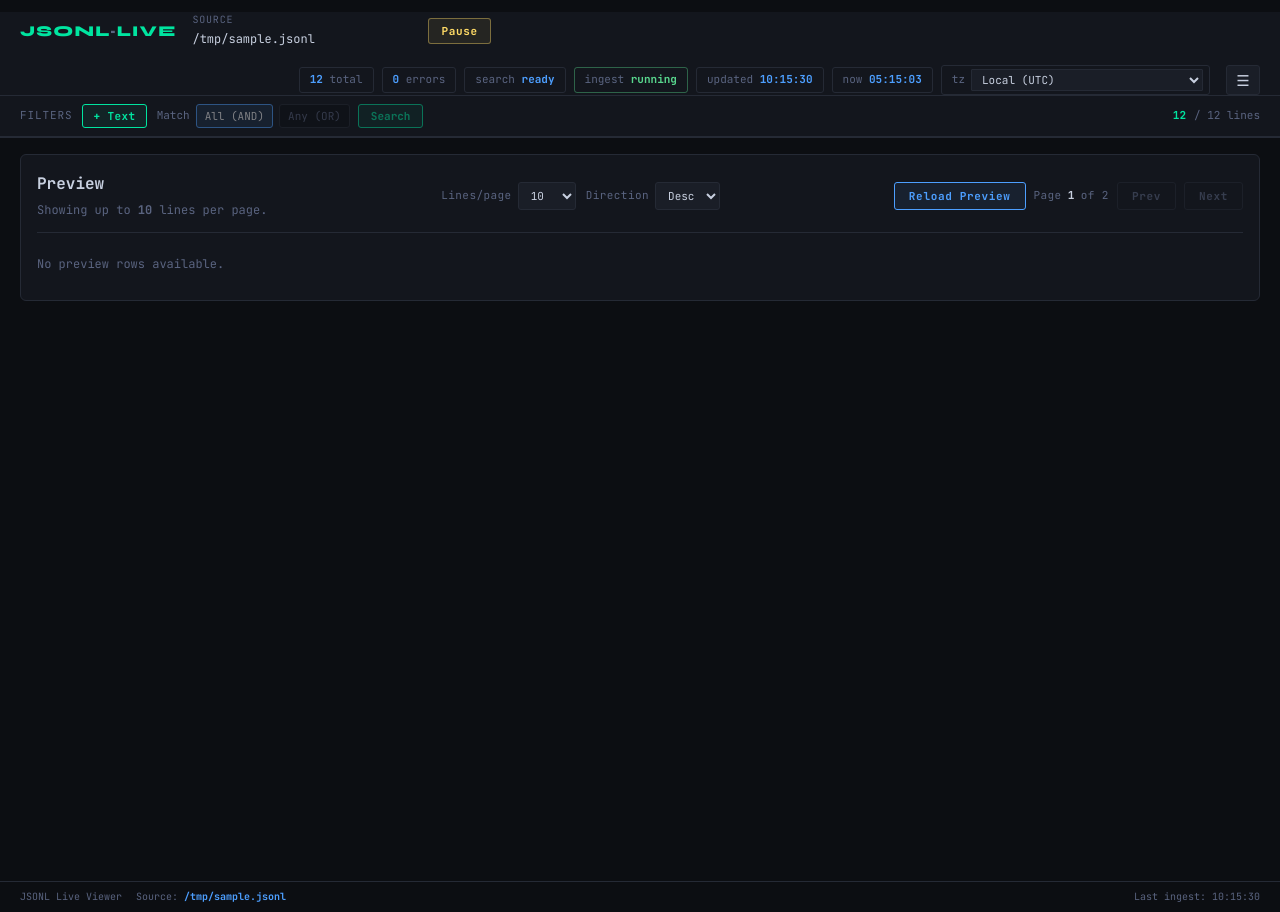
Test: App admin confirmations and lock › shows ingest size row in GB mode with fixed two decimals
Click the button named "Open admin menu" at (1243, 80), box [1226,65,1260,95]
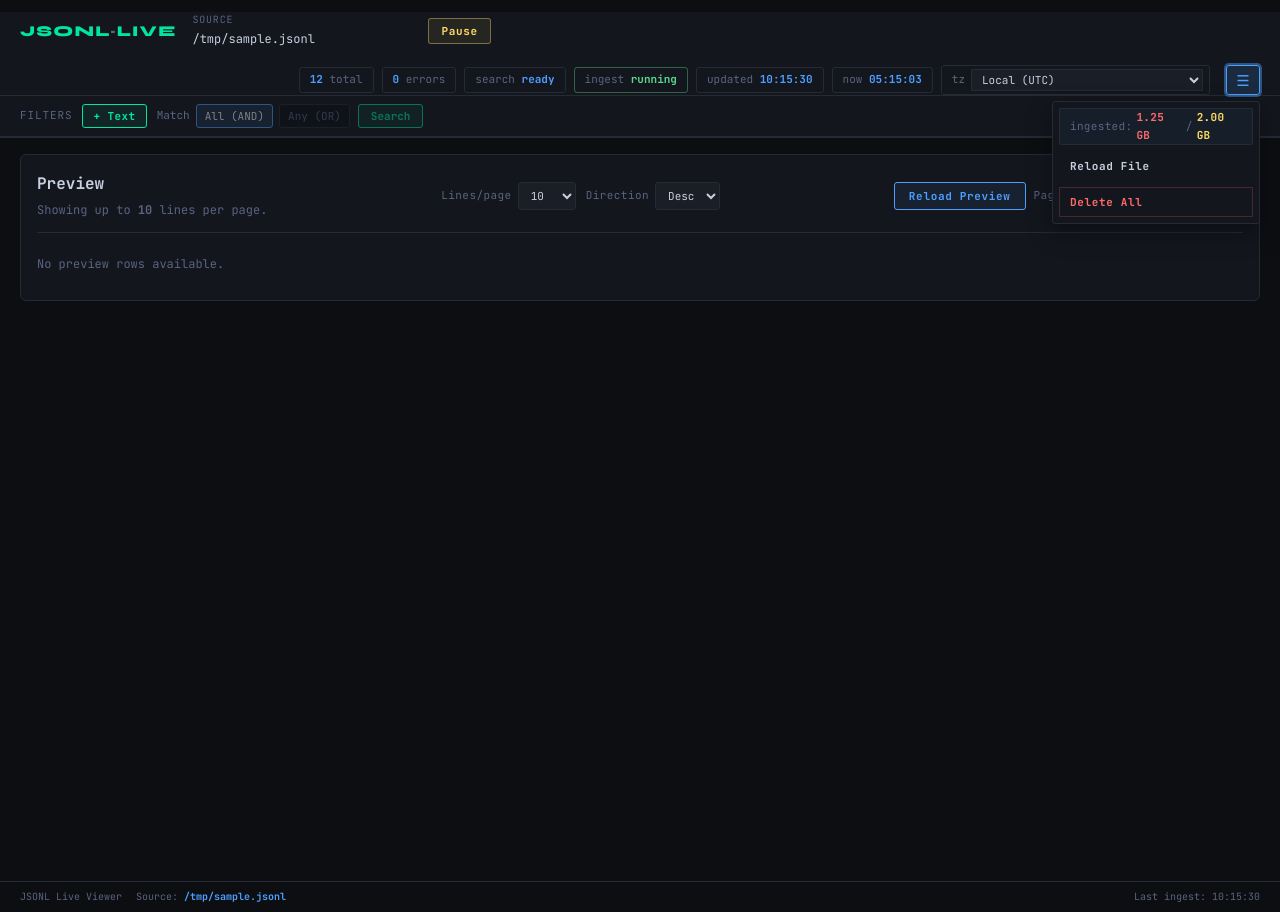
Result: the text "1.25 GB" is shown at [1136,110,1164,142]
Result: the text "2.00 GB" is shown at [1197,110,1224,142]
